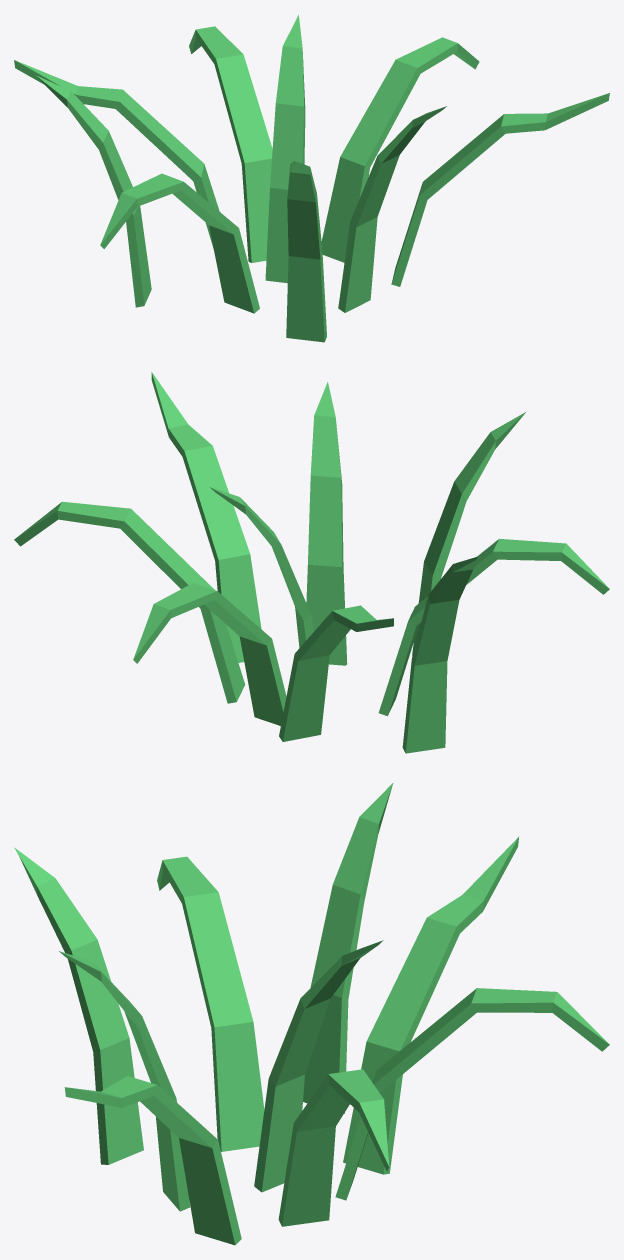
The model's file is grass_1.fbx.
The picture shows the model from 3 angles, top to bottom: view 1: azimuth 30°, elevation 25°; view 2: azimuth 150°, elevation 25°; view 3: azimuth 270°, elevation 25°; orthographic projection. The views are drawn at different scales.
Visible parts, largest first — view 1: grass_1; view 2: grass_1; view 3: grass_1.
Boxes of the visible parts, x1,y1,x2,y2 form: grass_1: (14, 15, 609, 342); grass_1: (14, 372, 609, 753); grass_1: (14, 783, 609, 1245).
Bounding box in the file's own units: 0.9707 × 0.4381 × 0.852.
